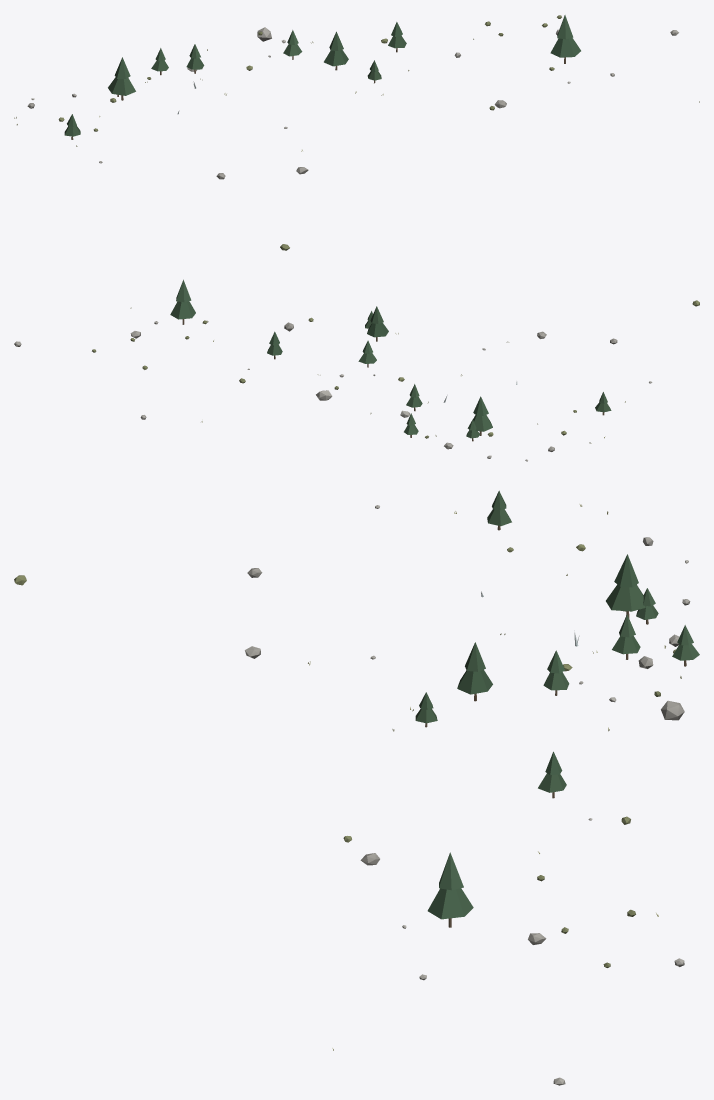
Rendered from coast_land_scatter_c13_20_lod1.glb.
3 views of the same model, one above another, from view 1: azimuth 30°, elevation 25°; view 2: azimuth 150°, elevation 25°; view 3: azimuth 270°, elevation 25° (orthographic). The views are drawn at different scales.
Visible parts, largest first — view 1: coast_land_scatter_c13_20_lod1; view 2: coast_land_scatter_c13_20_lod1; view 3: coast_land_scatter_c13_20_lod1.
Boxes of the visible parts, x1=… form: coast_land_scatter_c13_20_lod1: x1=14, y1=15, x2=699, y2=250; coast_land_scatter_c13_20_lod1: x1=14, y1=279, x2=699, y2=461; coast_land_scatter_c13_20_lod1: x1=14, y1=490, x2=699, y2=1085.
Bounding box in the file's own units: 221 × 39.14 × 132.
